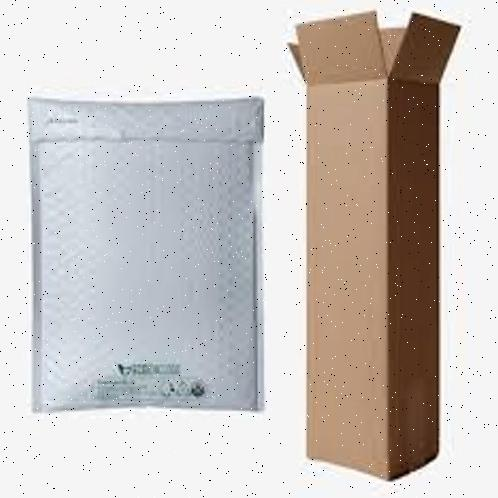Other: (22, 91, 277, 424), (298, 85, 448, 485)
